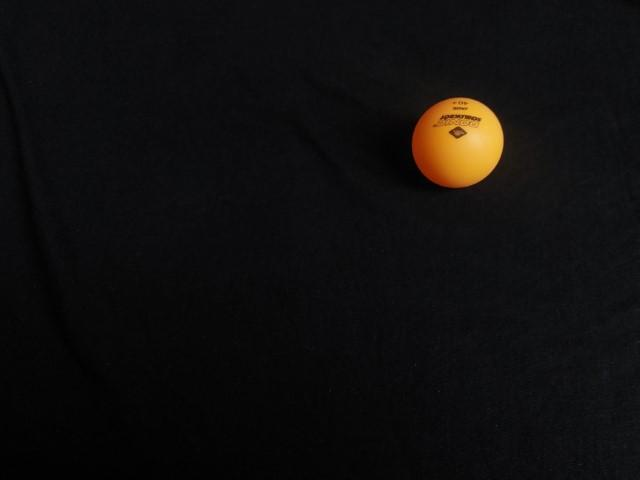oball: (402, 91, 513, 198)
